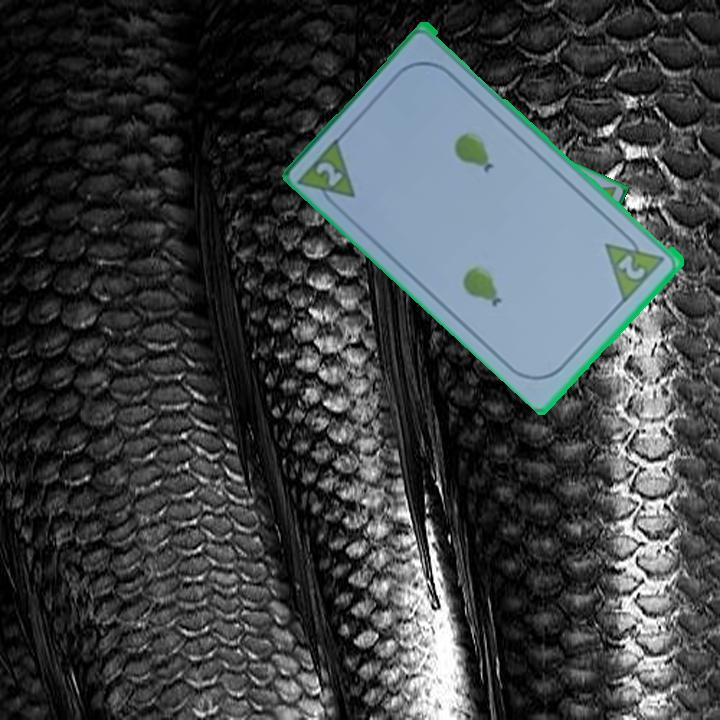2p: (312, 157, 346, 190), (614, 251, 649, 283)
